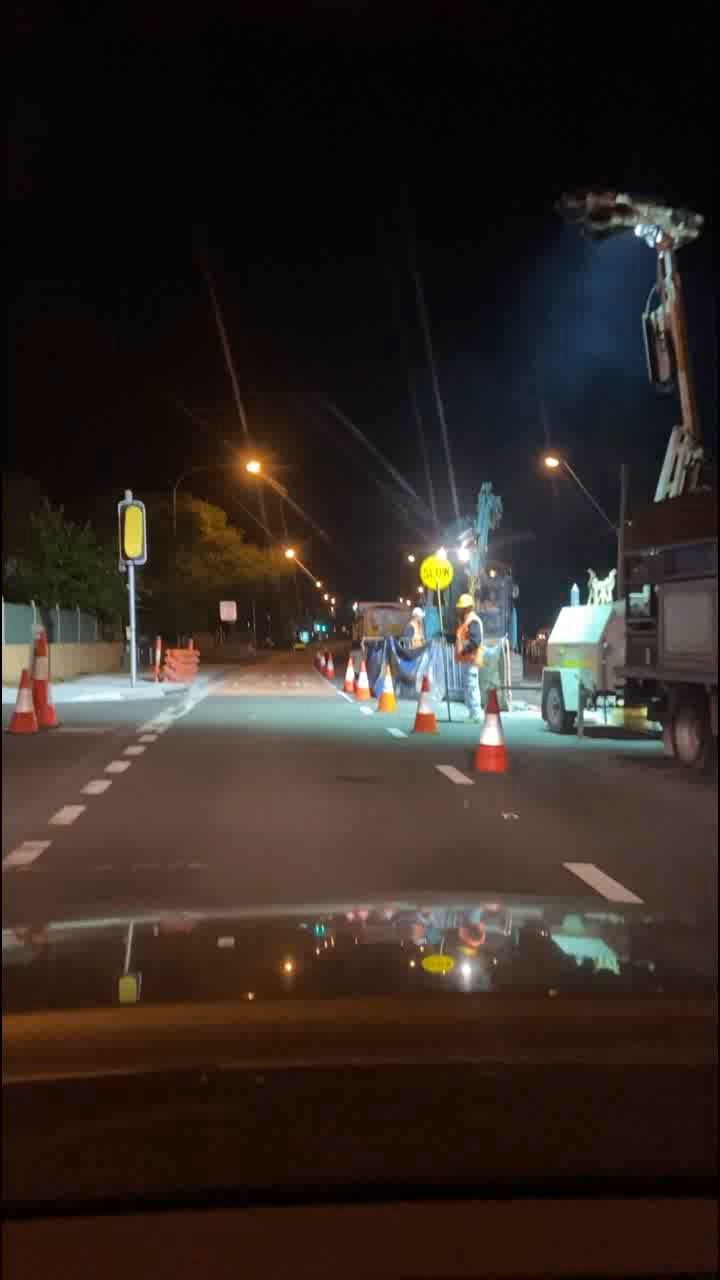person: (412, 546, 500, 740)
road cone: (8, 632, 70, 771), (466, 684, 518, 773), (339, 655, 374, 700), (377, 663, 397, 725)
truck: (543, 169, 720, 755)
